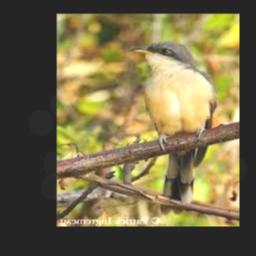Cuckoo: (129, 42, 218, 214)
